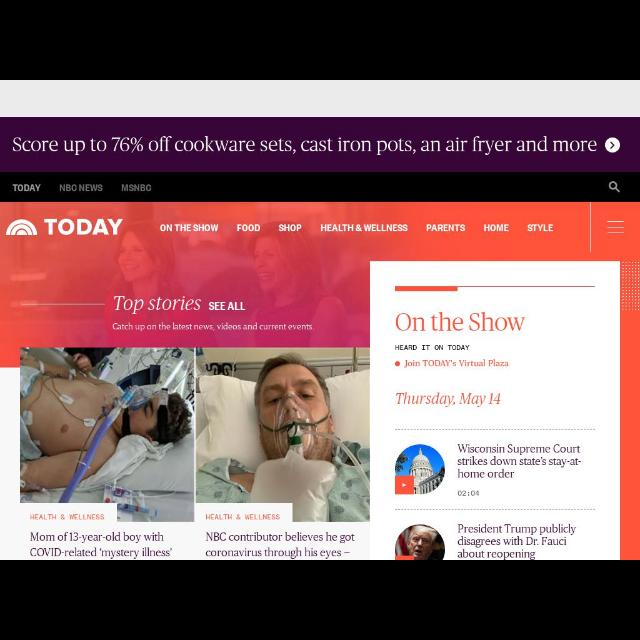button: (604, 136, 622, 154)
icon: (606, 220, 626, 236), (608, 180, 622, 194), (610, 142, 614, 148)
image: (19, 348, 370, 522), (396, 444, 444, 496), (392, 524, 446, 560), (6, 216, 38, 236)
multitab: (160, 224, 554, 233), (11, 184, 152, 192)
text: (12, 136, 598, 156), (457, 443, 583, 479), (457, 524, 577, 560), (206, 532, 356, 558), (29, 532, 173, 558), (396, 313, 526, 332), (112, 322, 316, 331), (396, 392, 500, 408), (112, 296, 202, 314), (43, 218, 124, 236), (394, 358, 512, 368), (320, 224, 410, 233), (396, 344, 470, 352), (160, 224, 220, 232), (208, 301, 248, 311), (120, 182, 152, 194), (58, 184, 104, 192), (426, 225, 466, 233), (10, 184, 42, 192), (482, 225, 510, 233), (526, 224, 554, 232), (236, 224, 262, 232), (278, 224, 302, 232), (456, 489, 480, 497)
